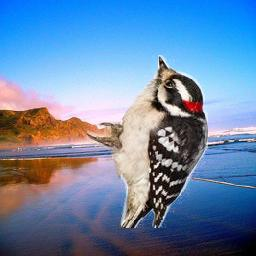Woodpecker: (88, 56, 209, 229)
